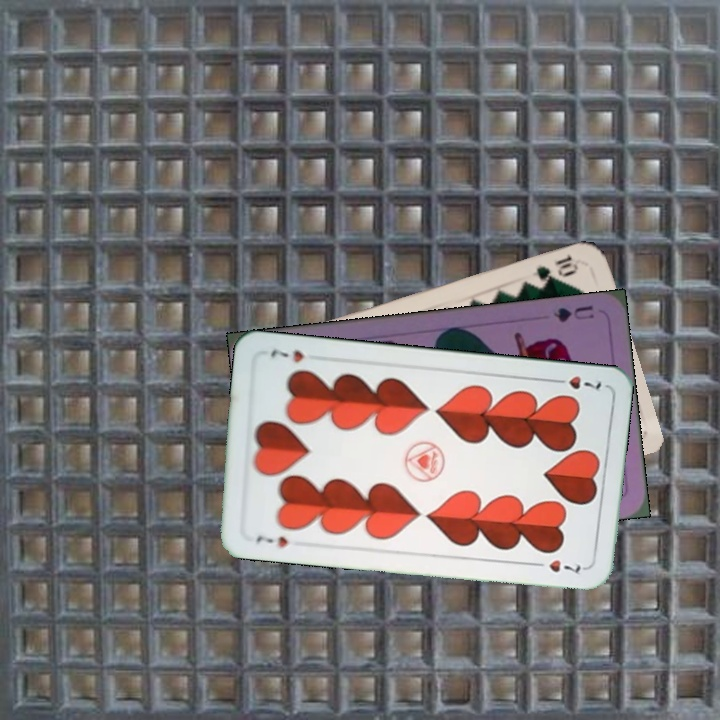G10: (532, 249, 581, 286)
GU: (549, 301, 596, 325)
H7: (547, 372, 604, 393), (252, 531, 291, 550)
